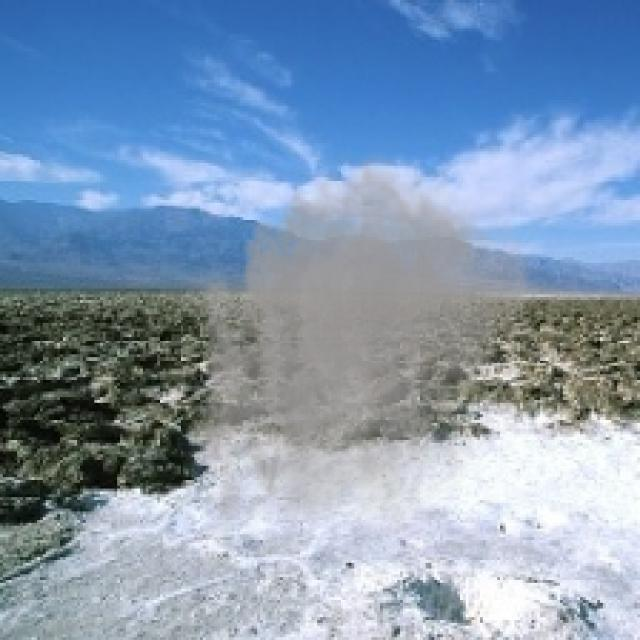Smoke: (177, 140, 543, 560)
